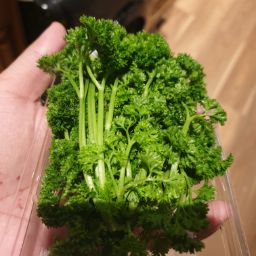Parsley: (32, 13, 236, 253), (41, 122, 211, 232), (52, 26, 200, 147), (54, 9, 207, 110)
